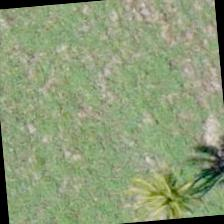Kelapa_Sawit: (124, 146, 220, 222)
